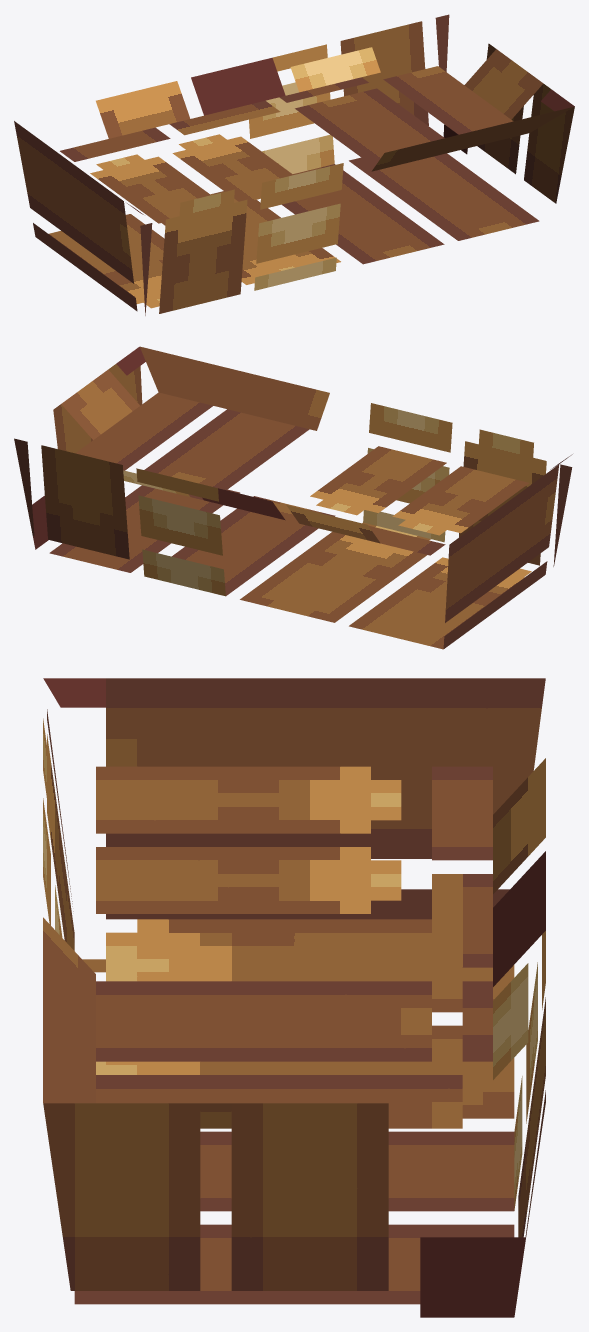
File: pig_feeder.obj
3 renders of one model, top to bottom at view 1: azimuth 30°, elevation 25°; view 2: azimuth 150°, elevation 25°; view 3: azimuth 270°, elevation 25°, orthographic. The views are drawn at different scales.
Parts seen in each view (by area): view 1: cuboid; view 2: cuboid; view 3: cuboid.
Part boxes in pixels (bbox=[...]): cuboid: bbox=[14, 14, 574, 315]; cuboid: bbox=[14, 346, 572, 649]; cuboid: bbox=[43, 678, 545, 1317].
Size of the model in its own units: 2 by 0.5 by 1.
